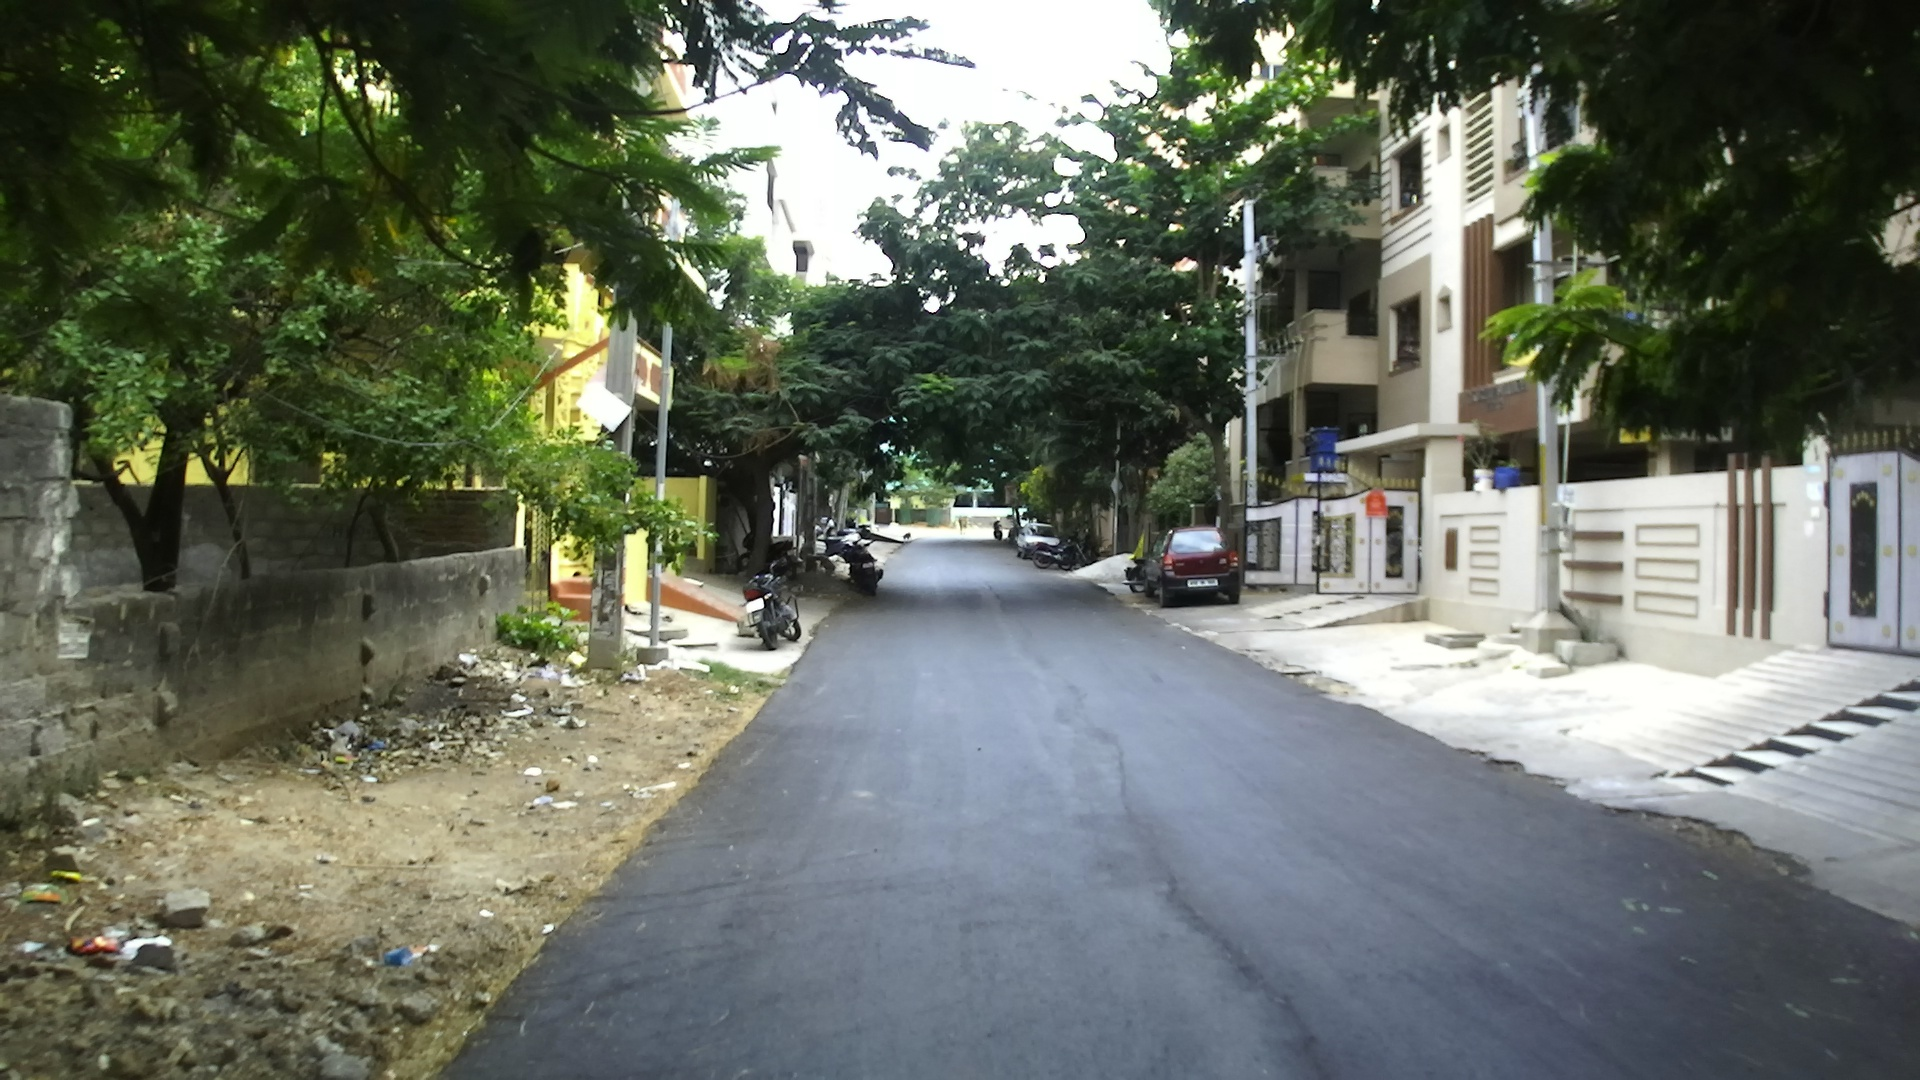vehicle: (1153, 527, 1244, 604), (815, 521, 884, 579), (1011, 520, 1063, 567), (1019, 533, 1064, 567), (1043, 537, 1080, 568)
